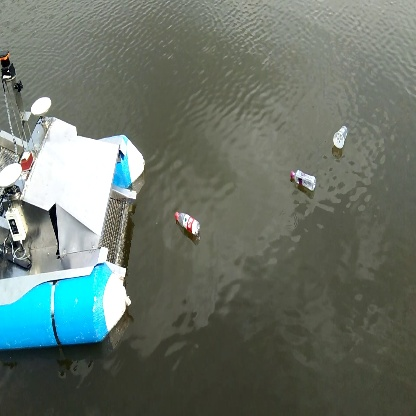bottle: (171, 208, 204, 241), (288, 167, 319, 191), (331, 124, 349, 148)
